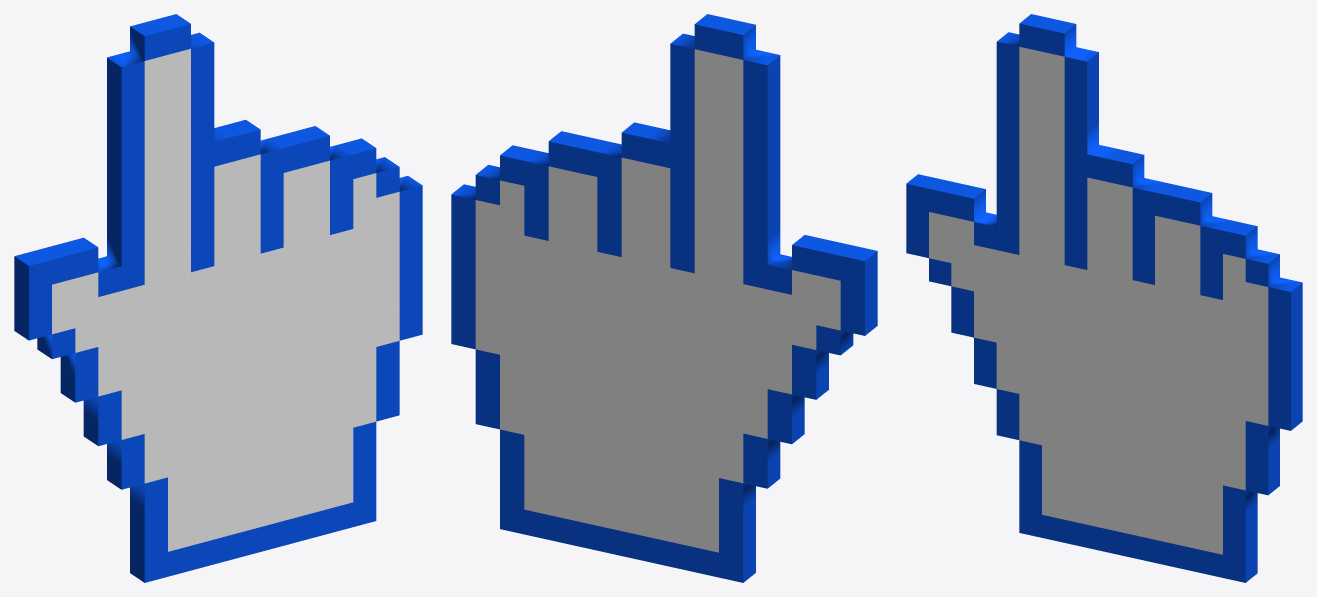
File: asset.gltf
3 views of the same model, side by side, from view 1: azimuth 30°, elevation 25°; view 2: azimuth 150°, elevation 25°; view 3: azimuth 330°, elevation 25° (orthographic). The views are drawn at different scales.
Visible parts, largest first — view 1: Cursor; view 2: Cursor; view 3: Cursor.
Boxes of the visible parts, x1,y1,x2,y2 form: Cursor: [14, 14, 422, 582]; Cursor: [451, 14, 877, 582]; Cursor: [906, 14, 1302, 582].
Size of the model in its own units: 4.69 by 6.06 by 0.4667.
